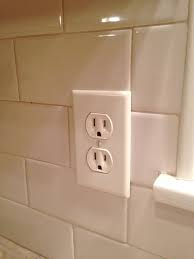outlet: (89, 114, 109, 139), (92, 149, 109, 172)
